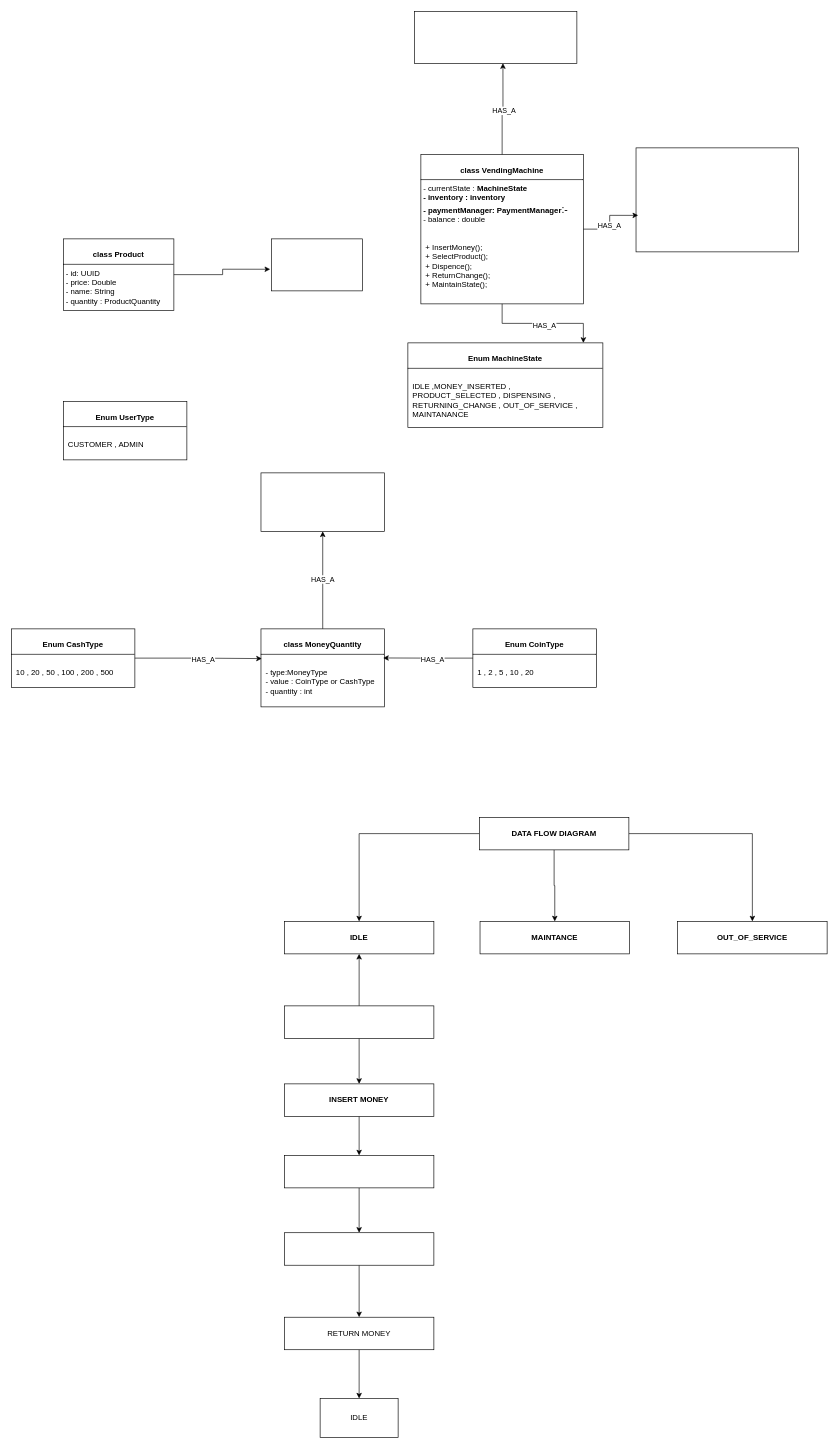
Some shapes in this 838 by 1449 pixel diagram are drawn without their labels. Here are the shapes that lost their labels. From the top down, the centre of each, then its label:
At [495,37]: "class Inventory - products : Map<Product , ProductQuantity>".
At [717,199]: "class PaymentManager - moneyStore : MoneyQauntity -".
At [316,264]: "class ProductQuantity - id: UUID - quantity: int".
At [322,501]: "Enum MoneyType COIN , CASH".
At [359,1021]: "VENDING MACHINE".
At [359,1171]: "SELECT PRODUCT".
At [359,1248]: "DISPENCE".
